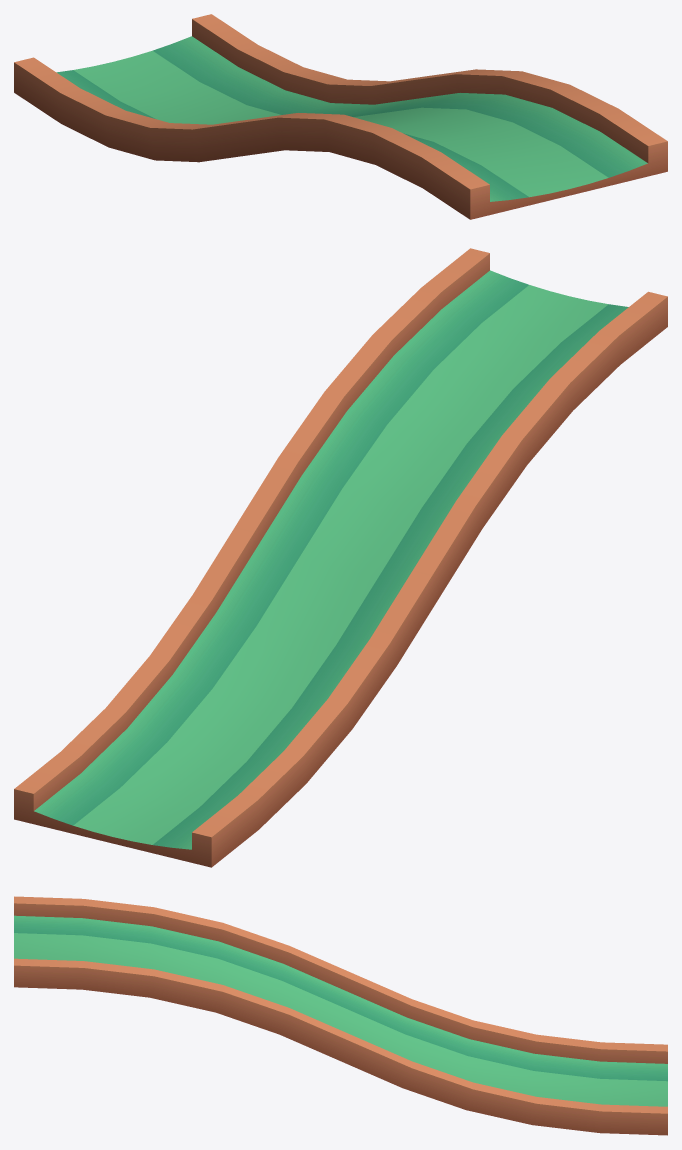
The model's file is spline-concave-straight-hill-complete.glb.
3 views of the same model, one above another, from view 1: azimuth 30°, elevation 25°; view 2: azimuth 150°, elevation 25°; view 3: azimuth 270°, elevation 25° (orthographic). The views are drawn at different scales.
Visible parts, largest first — view 1: spline-concave-straight-hill-complete; view 2: spline-concave-straight-hill-complete; view 3: spline-concave-straight-hill-complete.
Part boxes in pixels (x1,y1,x2,y2): spline-concave-straight-hill-complete: (14, 14, 667, 219); spline-concave-straight-hill-complete: (14, 248, 667, 867); spline-concave-straight-hill-complete: (14, 896, 667, 1135).
Bounding box in the file's own units: 1 × 1.15 × 4.
1 material, 1 textured.
